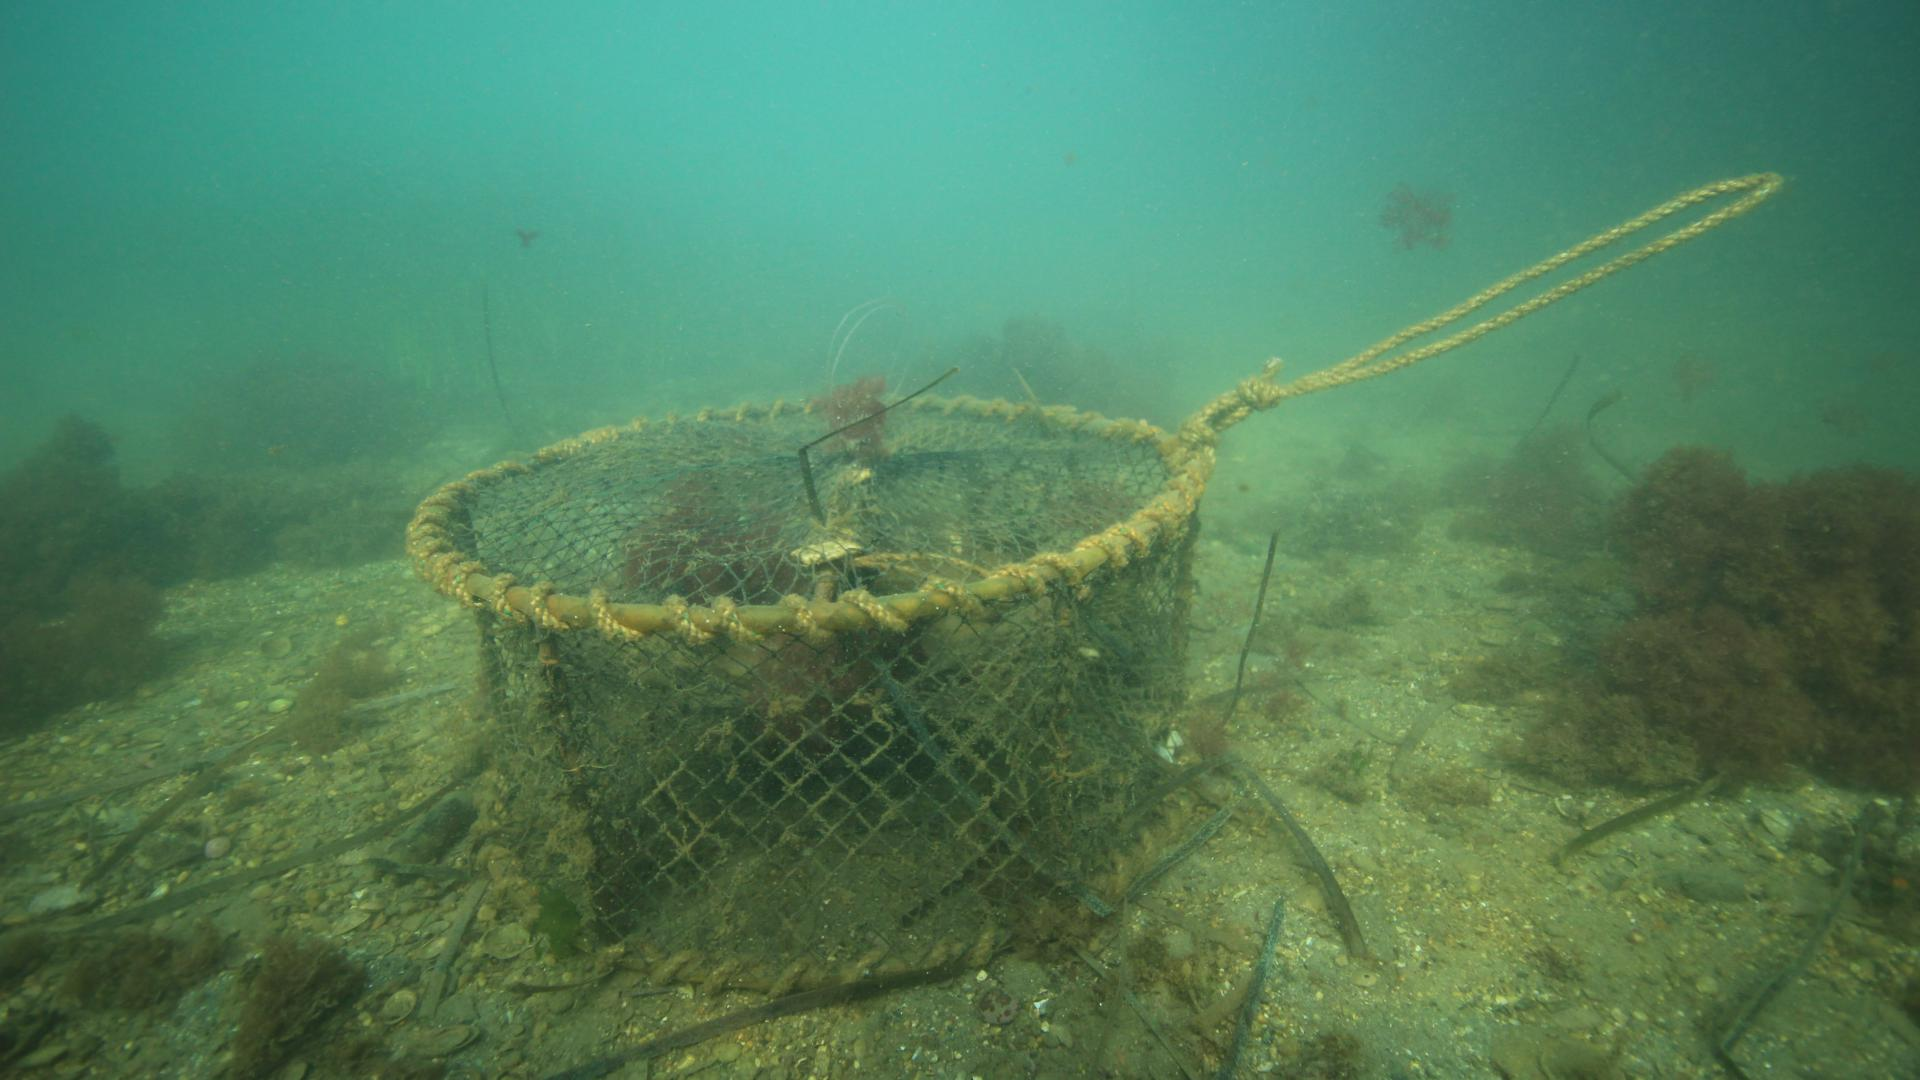circular fish trap: (405, 386, 1208, 1000)
rope: (1188, 166, 1789, 434)
